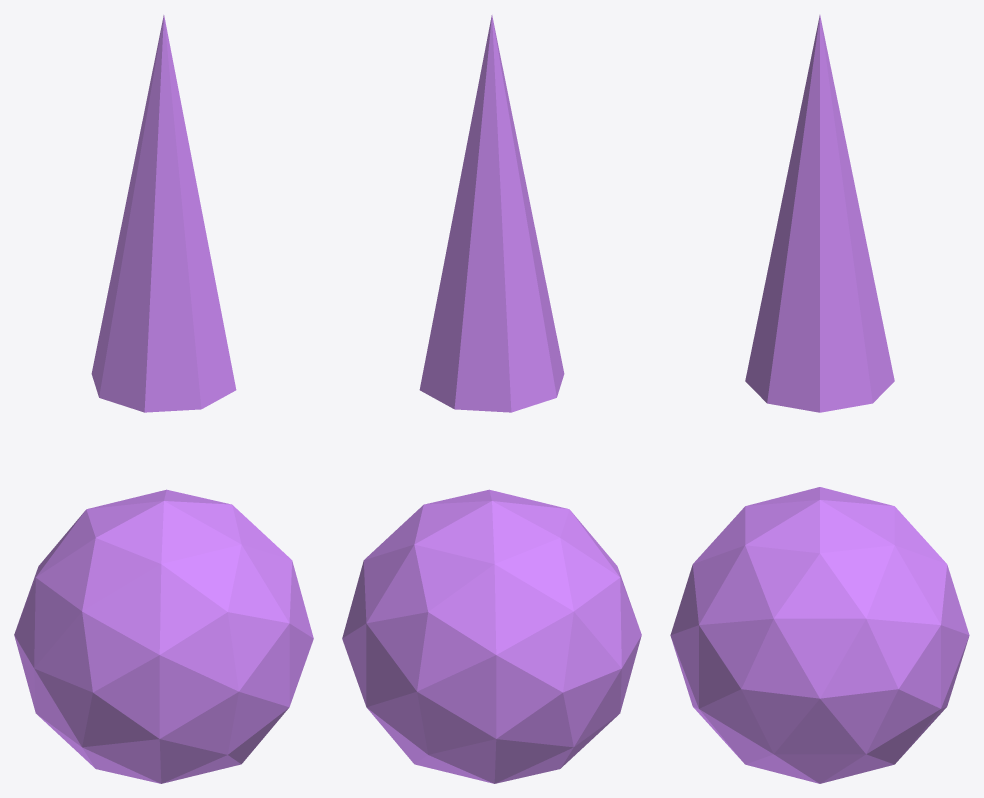
The model's file is void_orb_projectile.glb.
The picture shows the model from 3 angles, left to right: view 1: azimuth 30°, elevation 25°; view 2: azimuth 150°, elevation 25°; view 3: azimuth 270°, elevation 25°; orthographic projection.
Parts seen in each view (by area): view 1: projectile_core, trail; view 2: projectile_core, trail; view 3: projectile_core, trail.
Boxes of the visible parts, bbox=[...] form: projectile_core: bbox=[14, 489, 313, 783]; trail: bbox=[91, 15, 236, 412]; projectile_core: bbox=[342, 489, 641, 783]; trail: bbox=[419, 15, 564, 412]; projectile_core: bbox=[670, 487, 969, 783]; trail: bbox=[745, 15, 894, 412].
Bounding box in the file's own units: 0.48 × 1.34 × 0.48.
